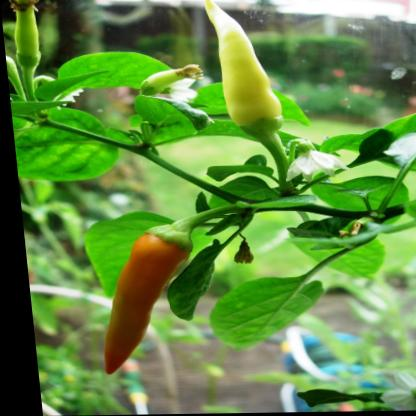--: (75, 201, 258, 381), (197, 0, 299, 200)
